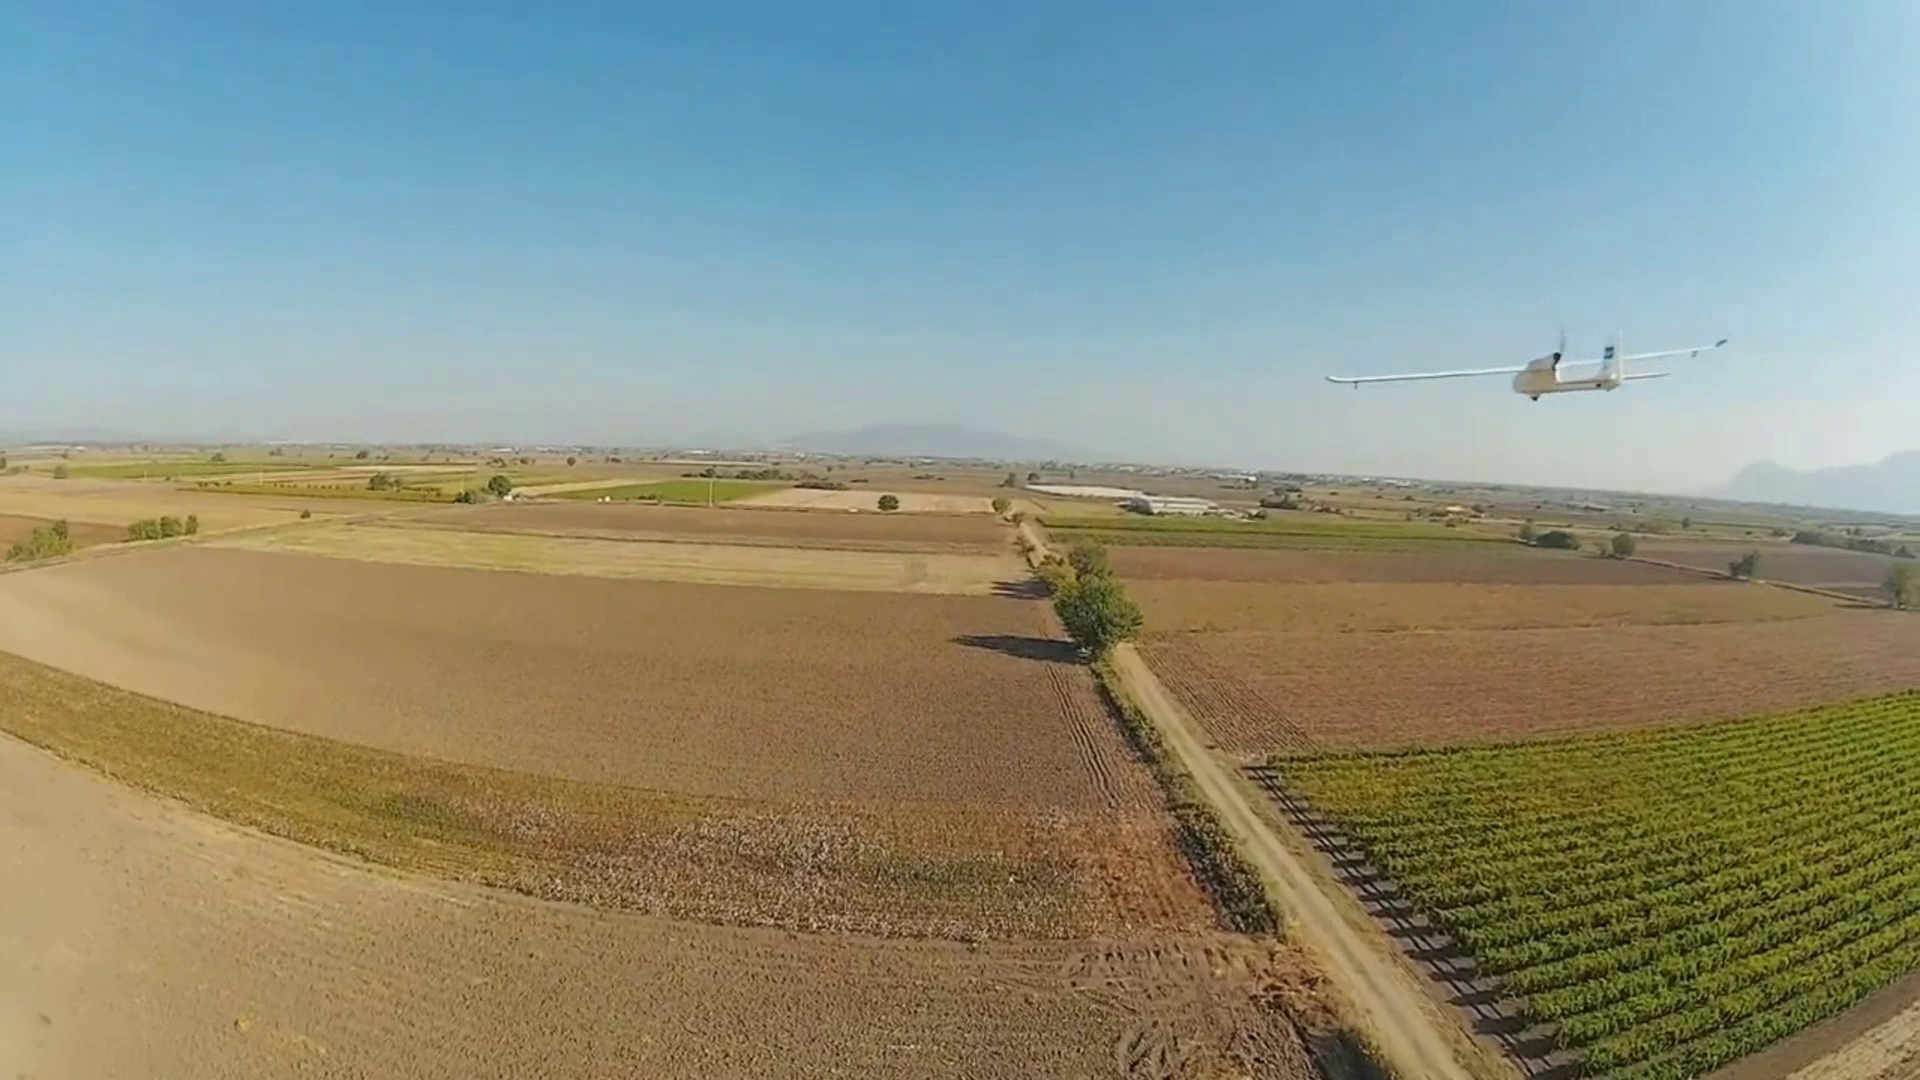airplane: (1323, 320, 1741, 397), (1424, 324, 1730, 397), (1514, 324, 1730, 402)
